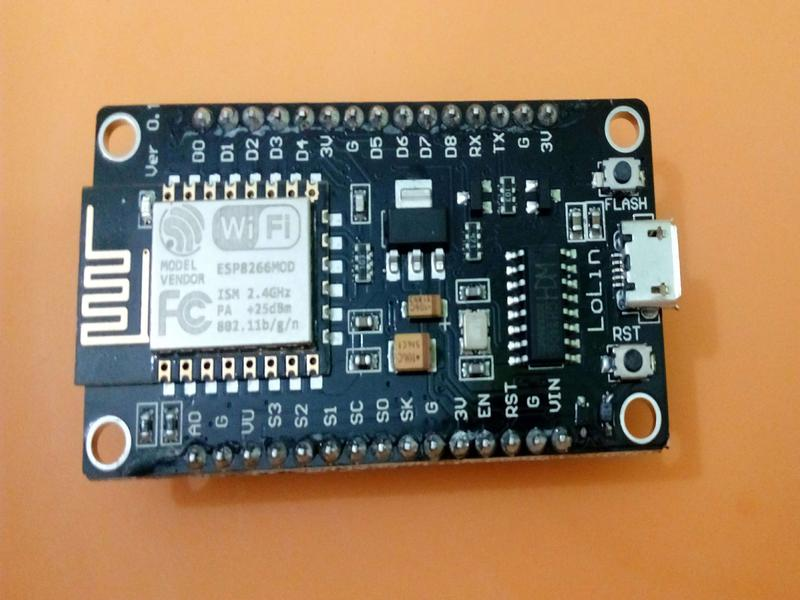NodeMCU: (74, 96, 684, 483)
